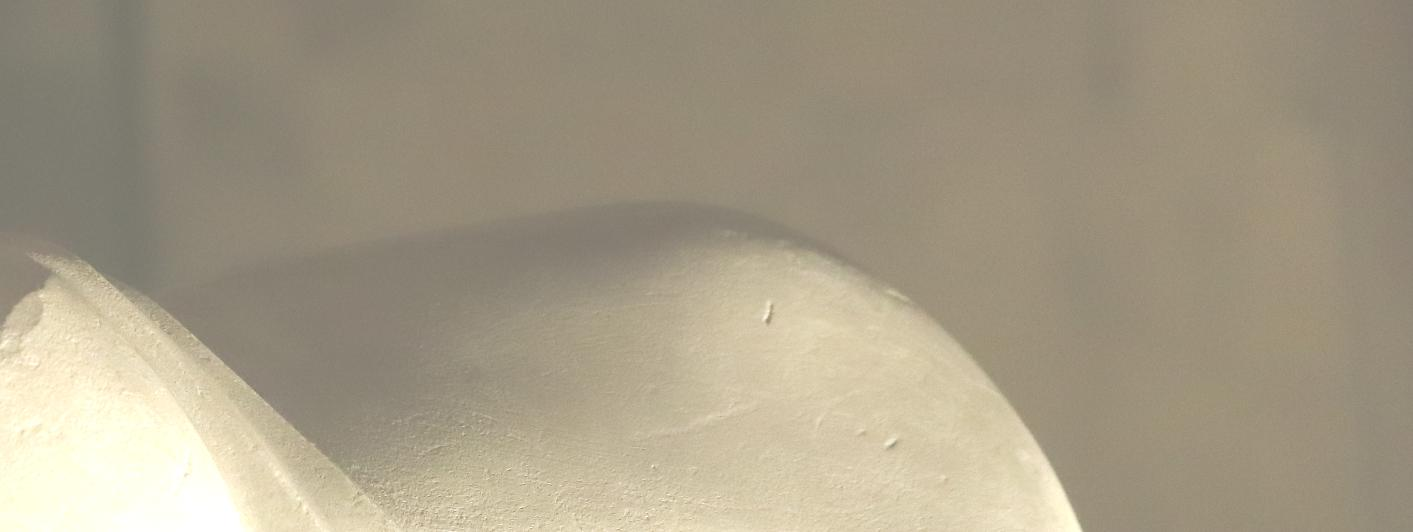the_female_peasent: (0, 79, 774, 532)
